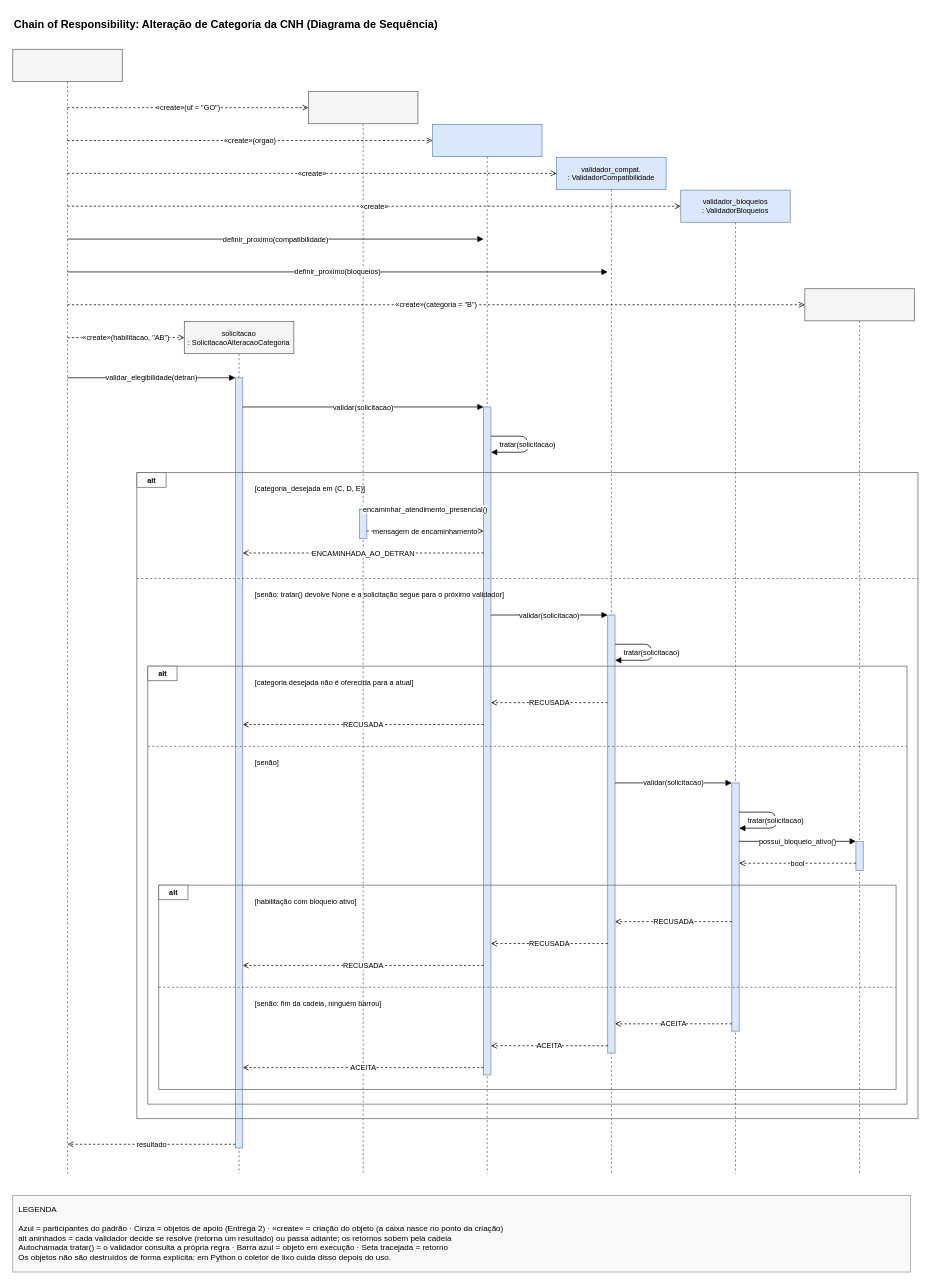
Image size: 931x1285. Some labels were removed from this diagram. Each missing label, with the centre of its shape:
"habilitacao : Habilitacao" belongs at point 859,304.
"main" belongs at point 67,65.
"orgao : OrgaoDeTransito" belongs at point 363,107.
"validador_detran : ValidadorDetran" belongs at point 487,140.
